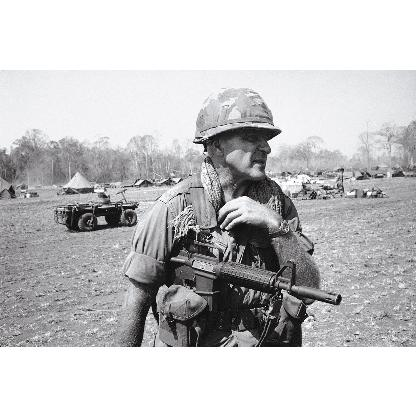gun: (155, 237, 344, 321)
